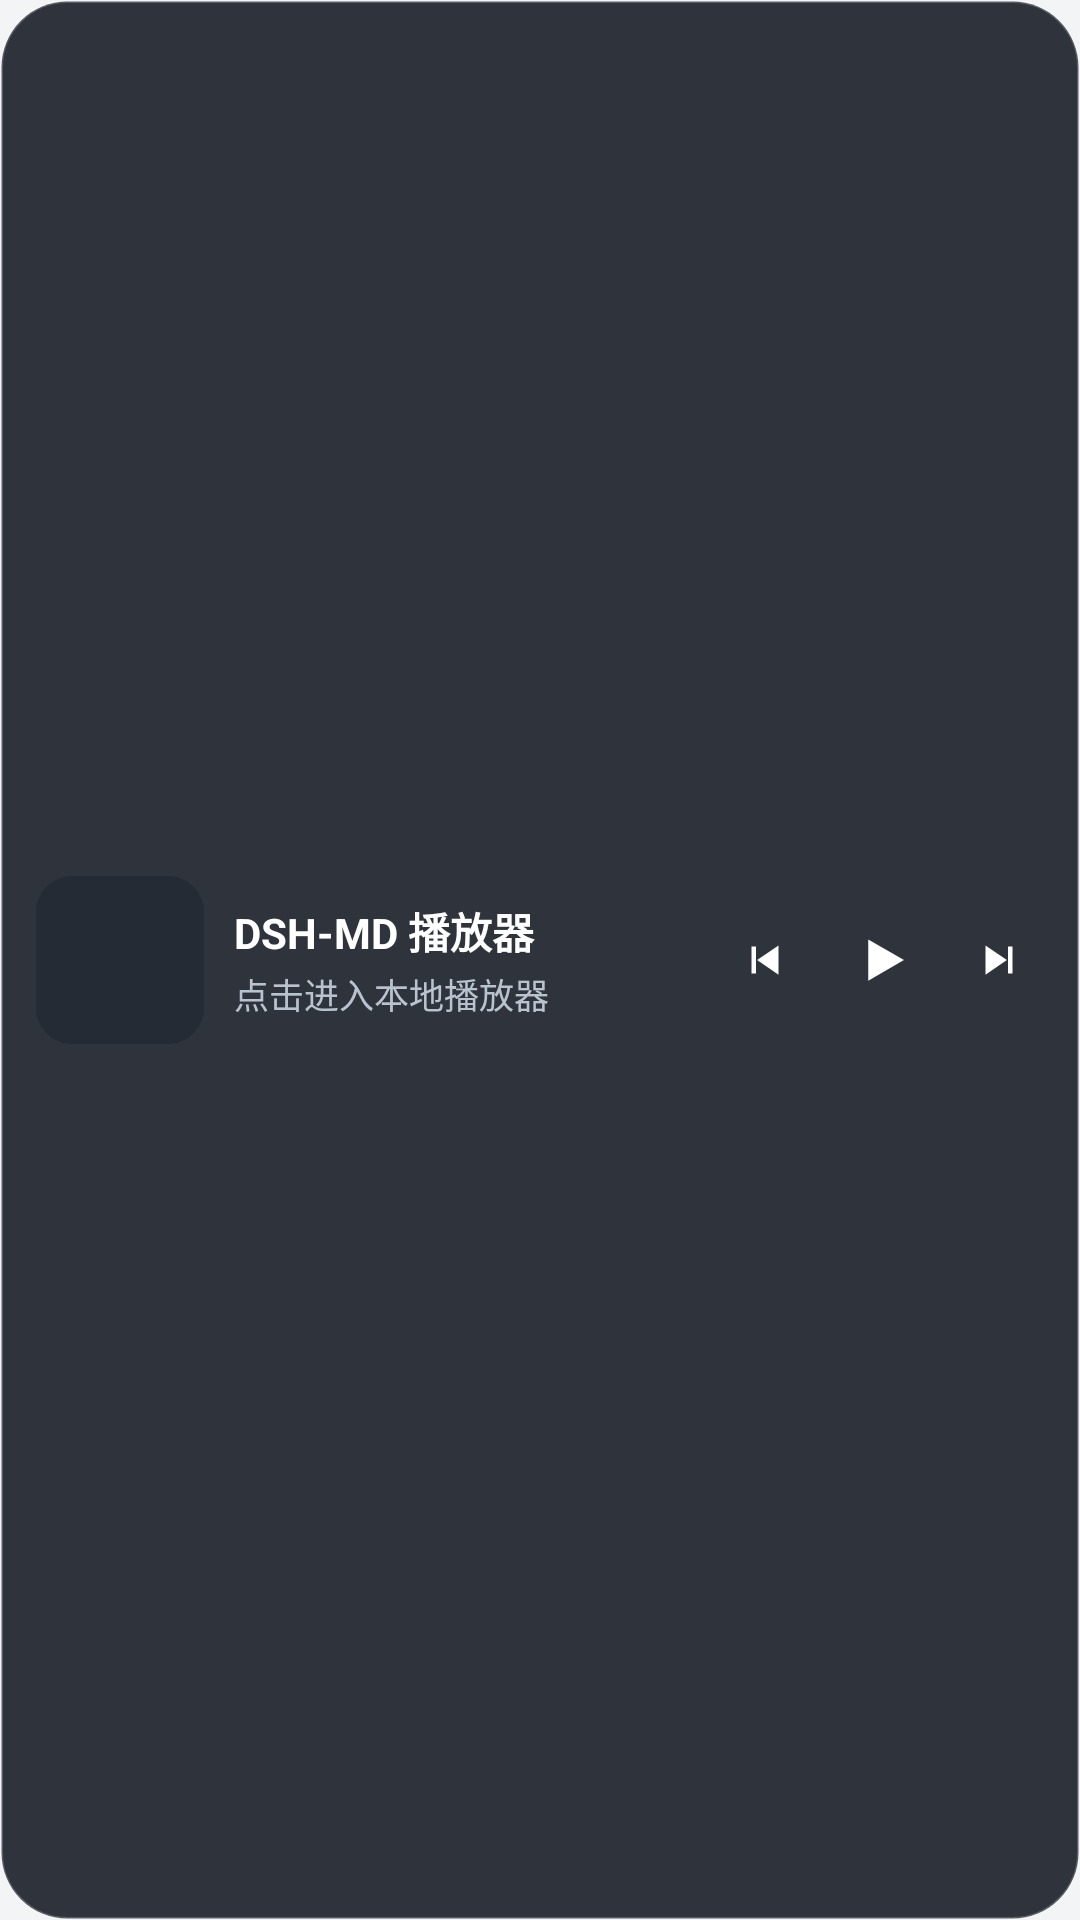

Icons on this 1080 x 1920 Android screen, each with its box as [x1,y1,x2,y2]:
上一首: [751,945,779,975]
下一首: [985,945,1013,975]
播放或暂停: [868,939,904,981]
